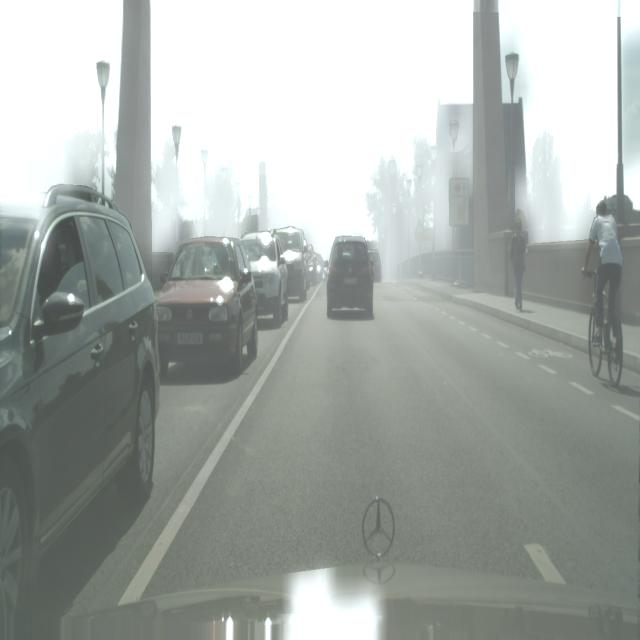bus: (509, 217, 528, 311)
person: (0, 185, 162, 628), (156, 235, 259, 378), (242, 230, 289, 328), (326, 234, 374, 320), (273, 226, 308, 302), (366, 241, 382, 282)
truck: (586, 182, 623, 389)
